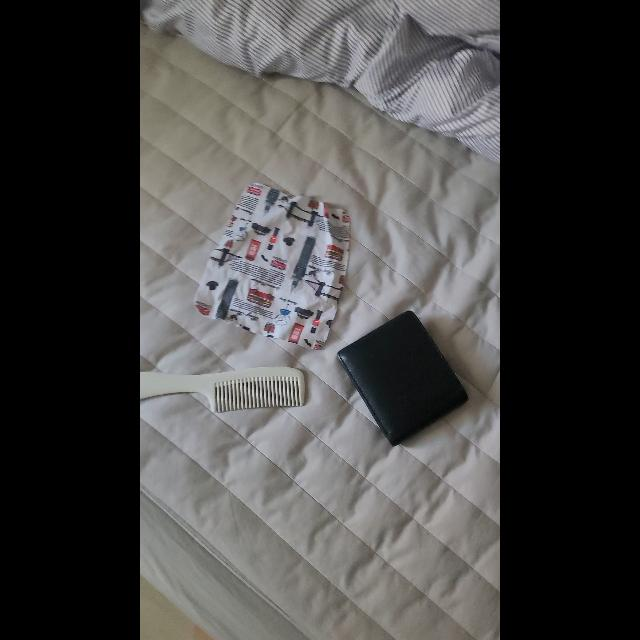COMB: (140, 366, 304, 414)
Glasses cleaning cloth: (194, 181, 350, 351)
WALLET: (338, 310, 468, 446)
